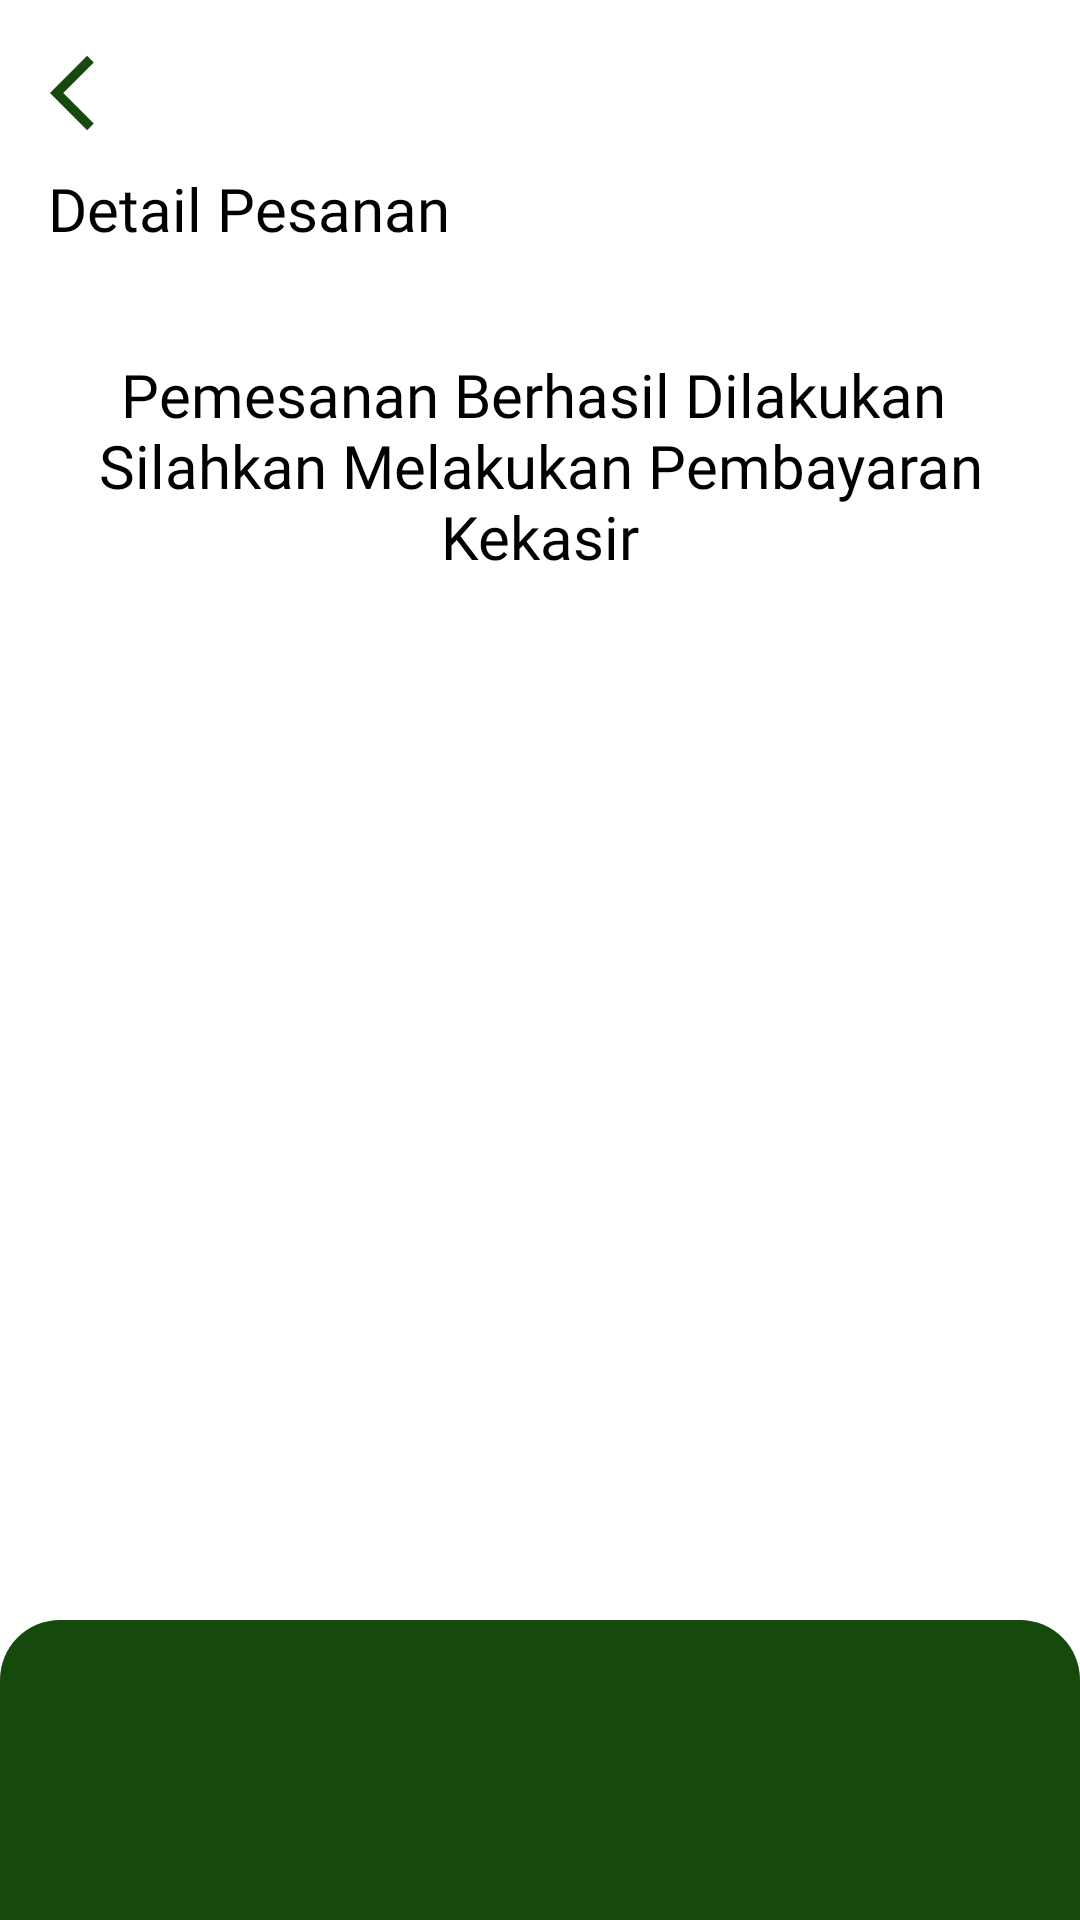

Locate icon controls on the screen. Image size 1080×1920, boxes as (x1, y1, x2, y2).
back: (50, 56, 94, 130)
